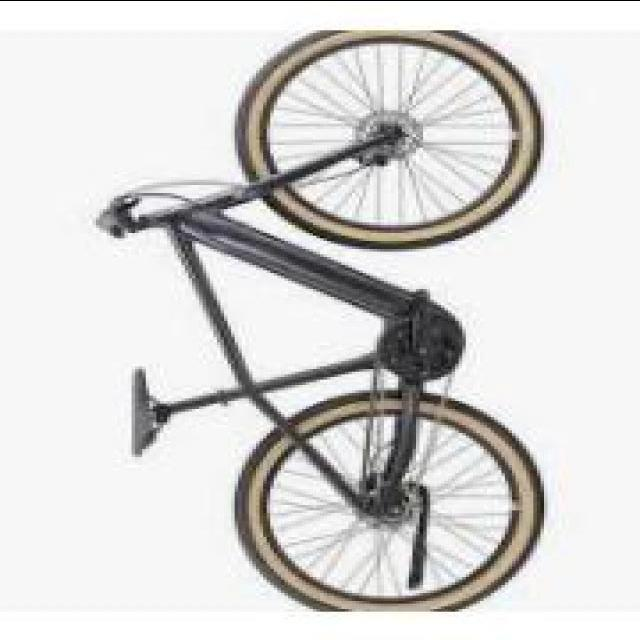bicycle: (94, 35, 584, 601)
